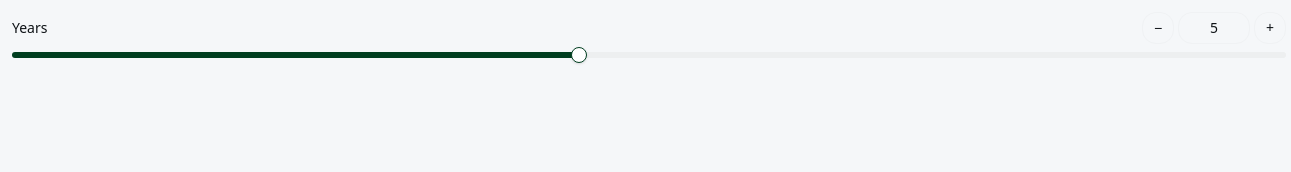
Test: SliderField touch-friendly enhancements › tappable value input › opens input field when value is clicked
Click the button named "edit years value": (1214, 28) [1178,12,1250,44]
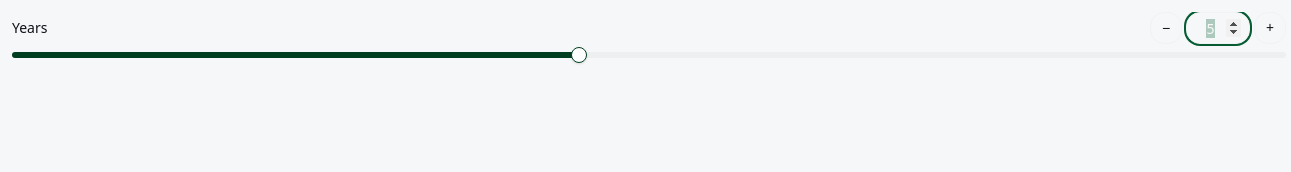
Expected: the number field holds "5", [1186,12,1250,44]
